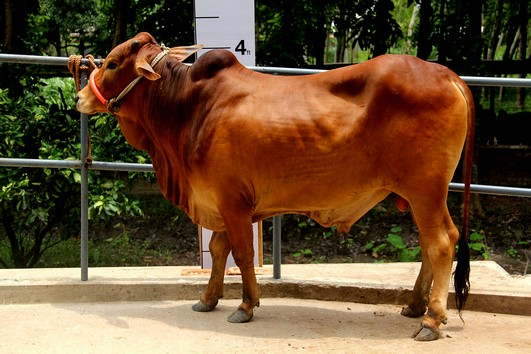cow: (70, 26, 475, 347)
